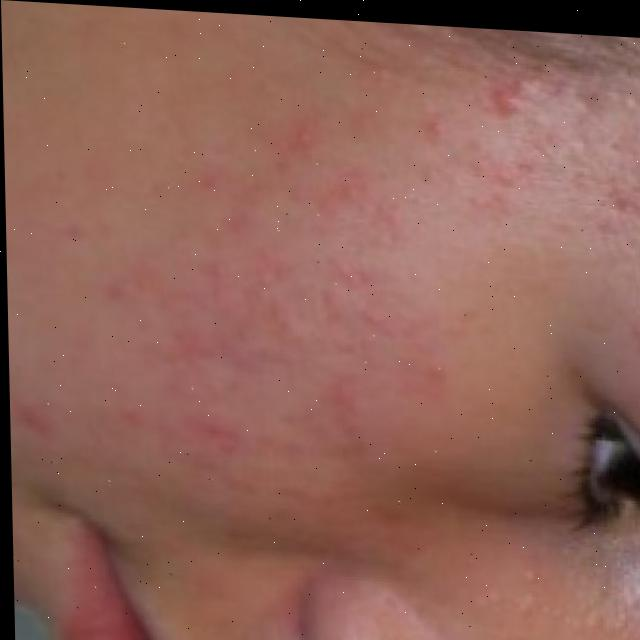Acne: (25, 79, 499, 469)
